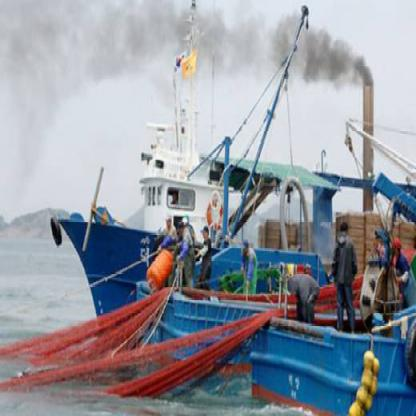fish-b: (47, 18, 348, 381)
